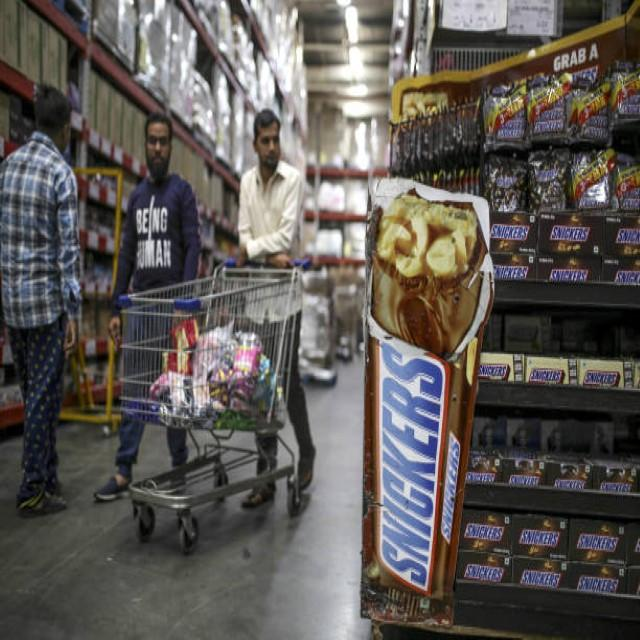snickers_chocolate: (357, 290, 453, 598)
